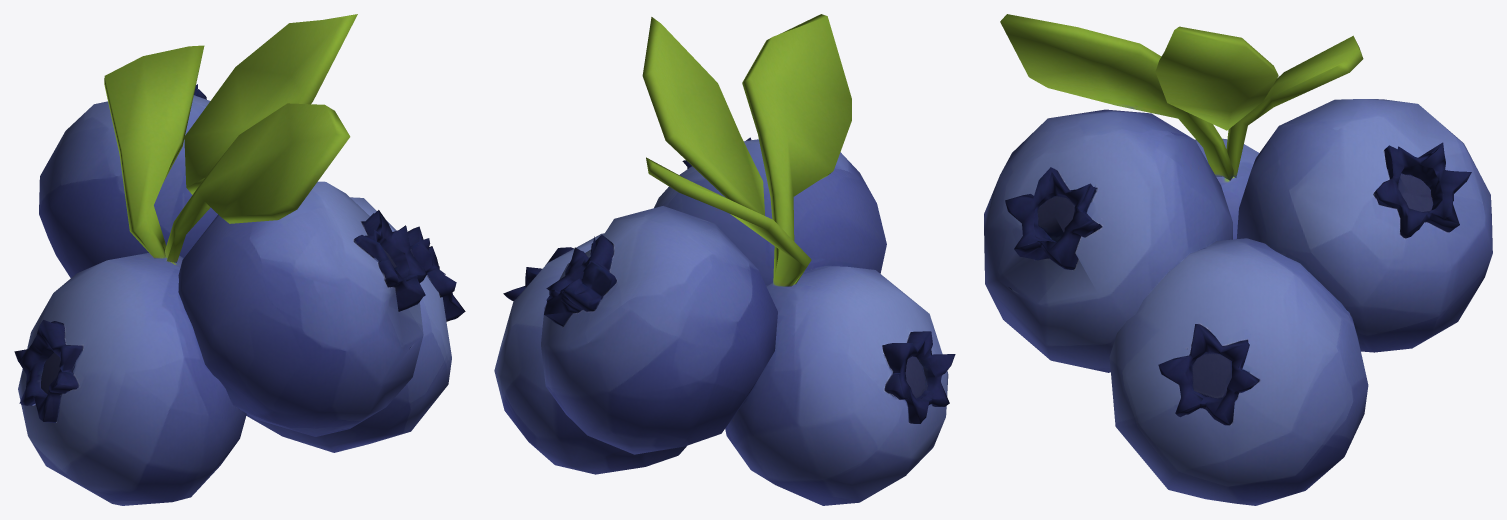
The model's file is blueberry_cluster_3d_model.glb.
The picture shows the model from 3 angles, left to right: view 1: azimuth 30°, elevation 25°; view 2: azimuth 150°, elevation 25°; view 3: azimuth 270°, elevation 25°; orthographic projection. The views are drawn at different scales.
Visible parts, largest first — view 1: world; view 2: world; view 3: world.
Part boxes in pixels (<box>): world: <box>14,14,465,505</box>; world: <box>494,14,955,505</box>; world: <box>984,14,1492,505</box>.
Bounding box in the file's own units: 0.998 × 0.9902 × 0.998.
1 material, 1 textured.
